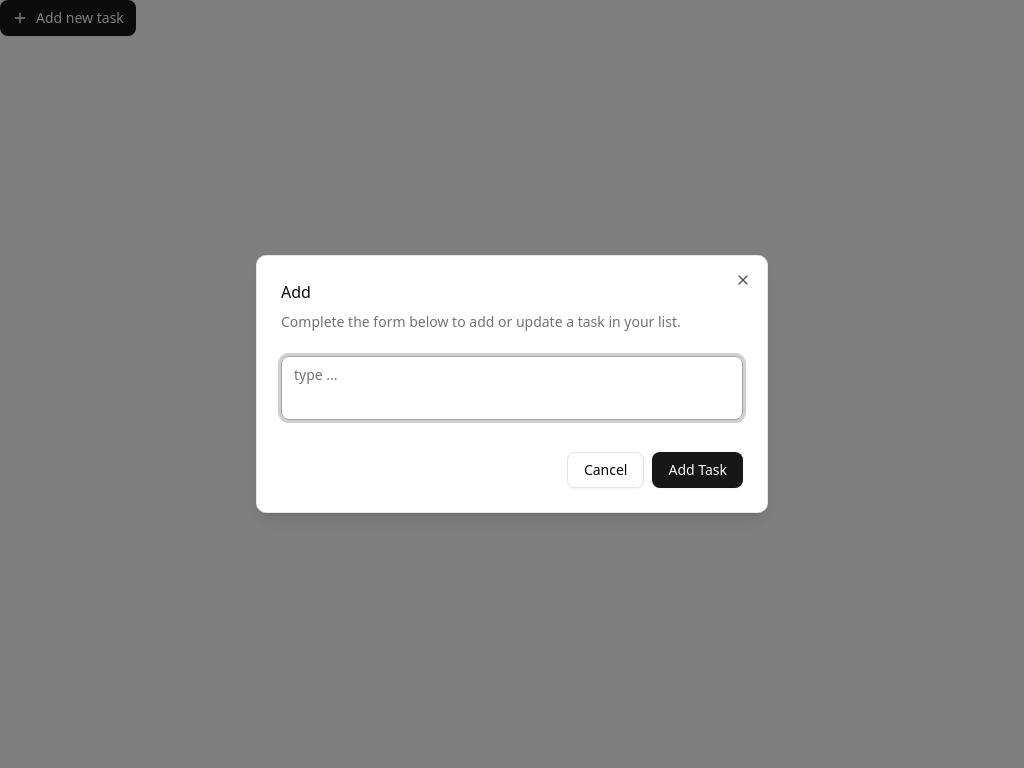
AddTask Component › displays an error message if the input is empty
The width and height of the screenshot is (1024, 768).
Click the button "Add Task" at (698, 470), box [652, 452, 743, 488]
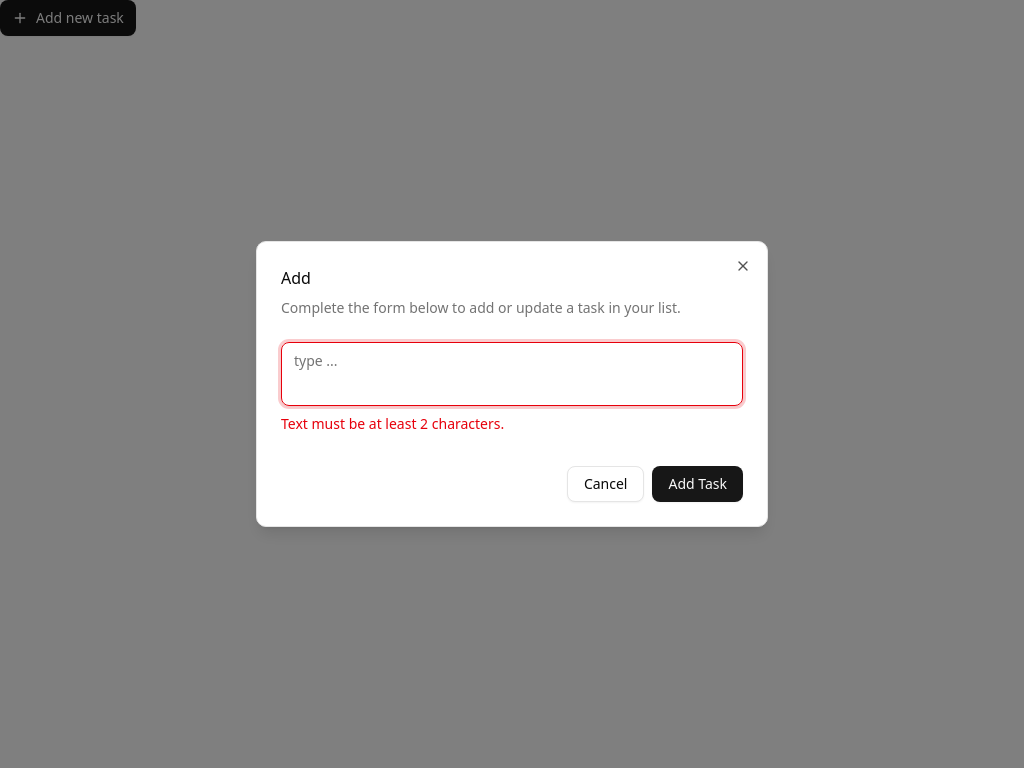
Expected: the text "Text must be at least 2 characters." is shown, [281, 414, 504, 433]
